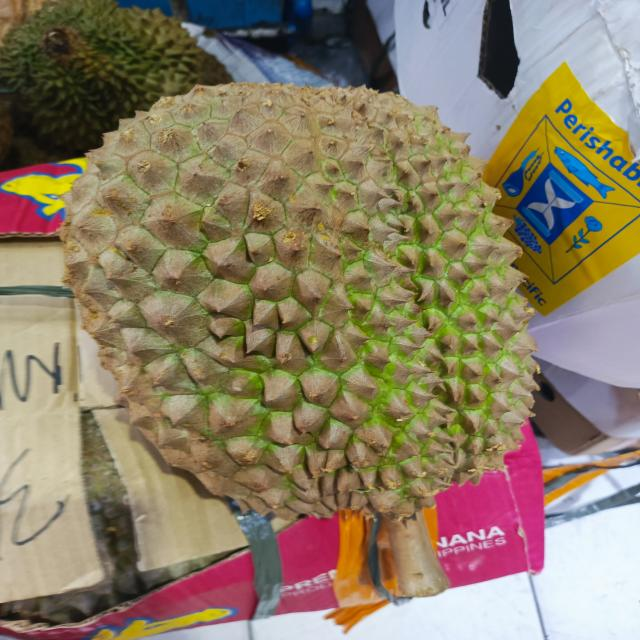mature: (61, 78, 538, 520)
